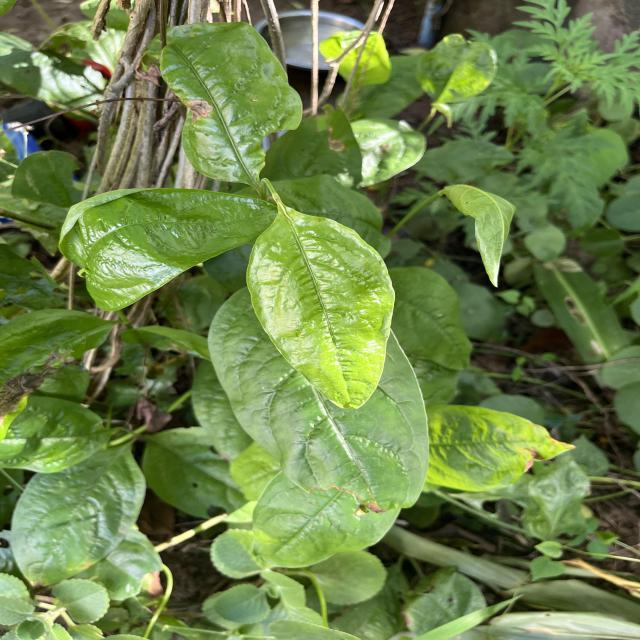Plumbago indica: (245, 204, 397, 410), (57, 186, 278, 314), (155, 18, 308, 186), (9, 446, 150, 589)
